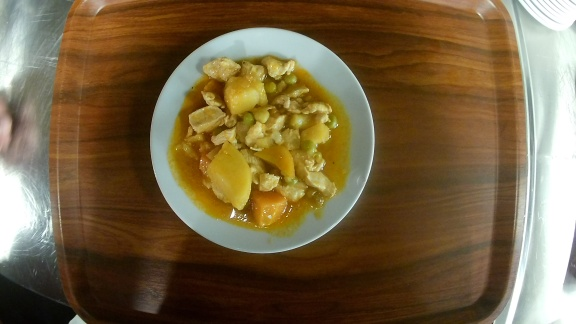bezelyelitavuk: (149, 26, 376, 256)
